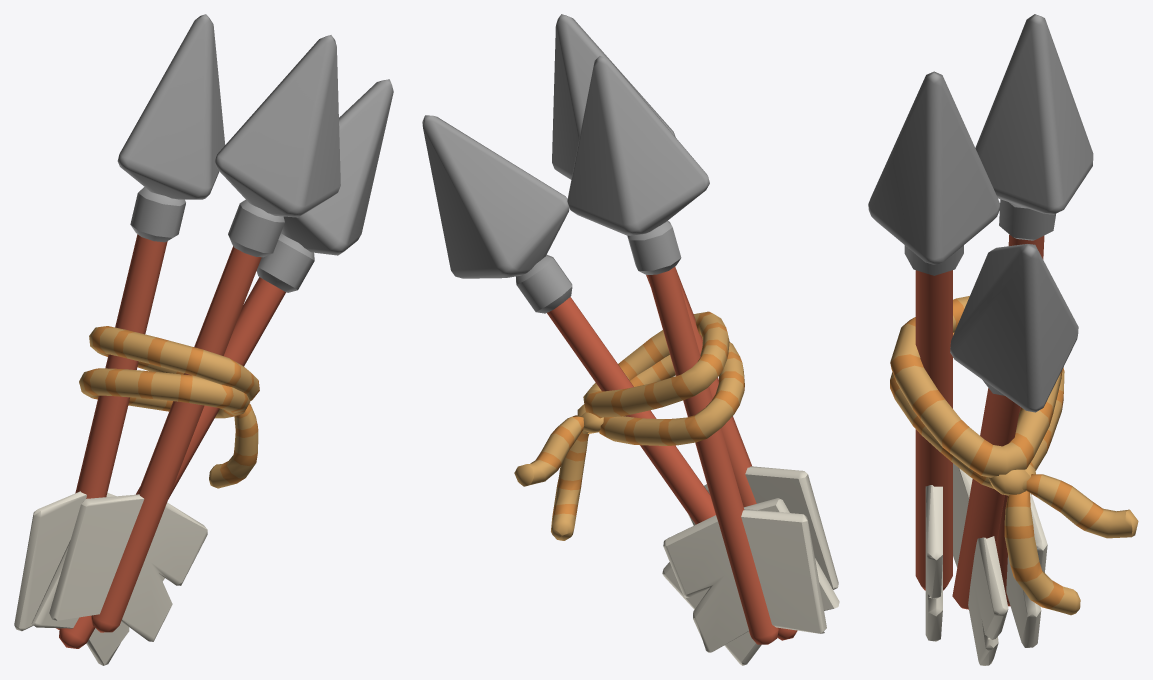
3 views of the same model, side by side, from view 1: azimuth 30°, elevation 25°; view 2: azimuth 150°, elevation 25°; view 3: azimuth 270°, elevation 25° (orthographic). The views are drawn at different scales.
Visible parts, largest first — view 1: model_1.030; view 2: model_1.030; view 3: model_1.030.
Boxes of the visible parts, box(x1,y1,x2,y2) form: model_1.030: box(14, 14, 393, 665); model_1.030: box(422, 14, 839, 665); model_1.030: box(868, 14, 1138, 665).
Bounding box in the file's own units: 3.31 × 4.87 × 1.65.
